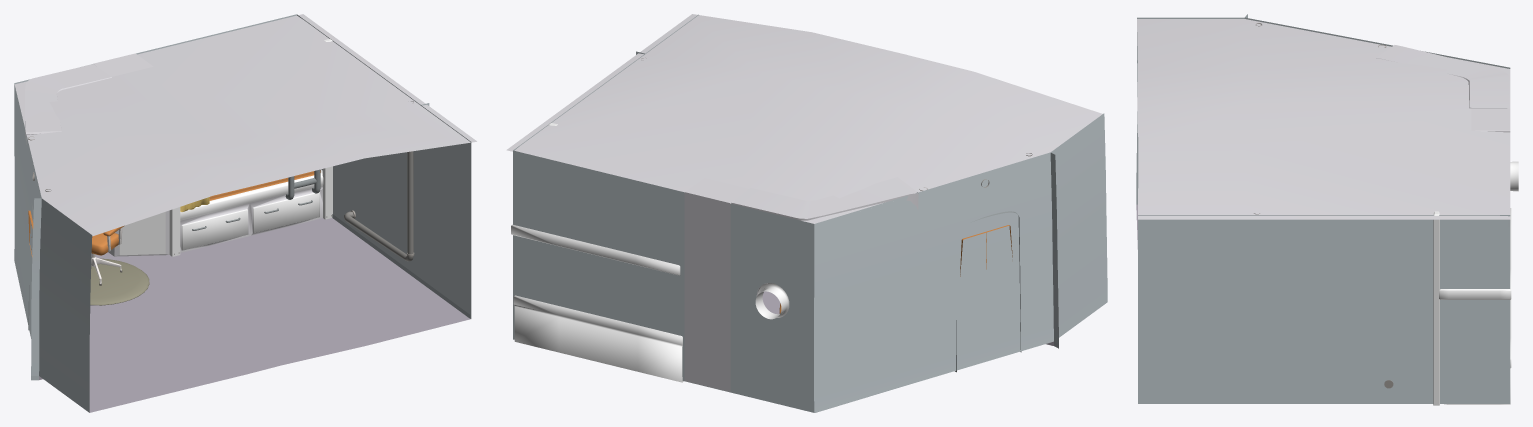
File: CabinRoom00.fbx
The picture shows the model from 3 angles, left to right: view 1: azimuth 30°, elevation 25°; view 2: azimuth 150°, elevation 25°; view 3: azimuth 270°, elevation 25°; orthographic projection. The views are drawn at different scales.
Visible parts, largest first — view 1: cabinRoomWalls.001, cabinBunk.001, CabinDesk.001, CircleRug.001, cabinPipe02.001, cabinChair.001, bunkLadder.001; view 2: cabinRoomWalls.001, CabinDesk.001, cabinBunk.001, cabinPortholeWindow.002; view 3: cabinRoomWalls.001, CabinDesk.001, cabinBunk.001.
Part boxes in pixels (x1,y1,x2,y2): cabinRoomWalls.001: [14, 14, 476, 412]; cabinBunk.001: [169, 39, 332, 256]; CabinDesk.001: [25, 53, 169, 256]; CircleRug.001: [90, 258, 149, 305]; cabinPipe02.001: [344, 101, 414, 261]; cabinChair.001: [91, 225, 124, 285]; bunkLadder.001: [285, 169, 320, 199]; cabinRoomWalls.001: [506, 14, 1107, 412]; CabinDesk.001: [684, 177, 918, 391]; cabinBunk.001: [511, 123, 683, 382]; cabinPortholeWindow.002: [755, 283, 789, 319]; cabinRoomWalls.001: [1136, 14, 1510, 403]; CabinDesk.001: [1376, 45, 1510, 132]; cabinBunk.001: [1433, 208, 1511, 405].
Bounding box in the file's own units: 51.61 × 23.67 × 40.29.
